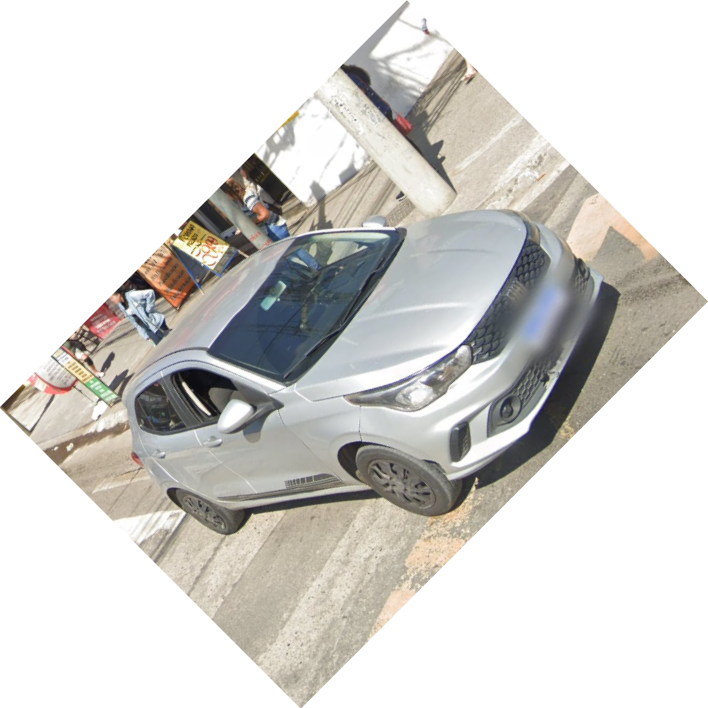car: (124, 212, 605, 533)
